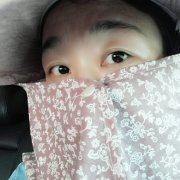OK: (42, 19, 164, 141)
